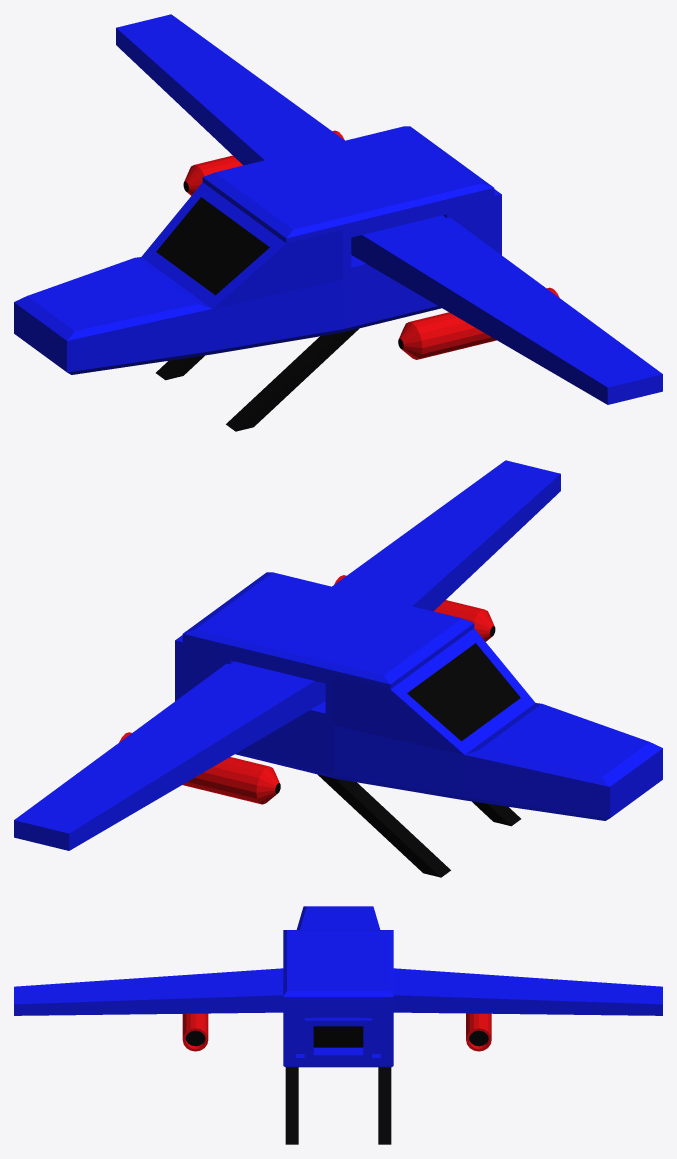
Rendered from uzay gemisi.fbx.
3 renders of one model, top to bottom at view 1: azimuth 30°, elevation 25°; view 2: azimuth 150°, elevation 25°; view 3: azimuth 270°, elevation 25°, orthographic. The views are drawn at different scales.
Visible parts, largest first — view 1: Cube; view 2: Cube; view 3: Cube.
Boxes of the visible parts, x1,y1,x2,y2 form: Cube: (14,14,662,431); Cube: (14,460,662,877); Cube: (14,906,662,1144).
Bounding box in the file's own units: 1044 × 376 × 1791.
